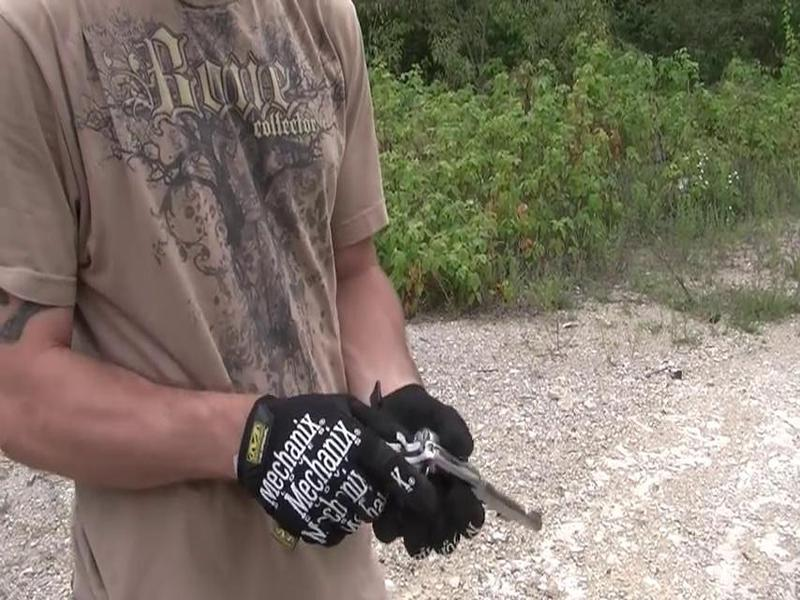Revolver: (362, 407, 545, 535)
